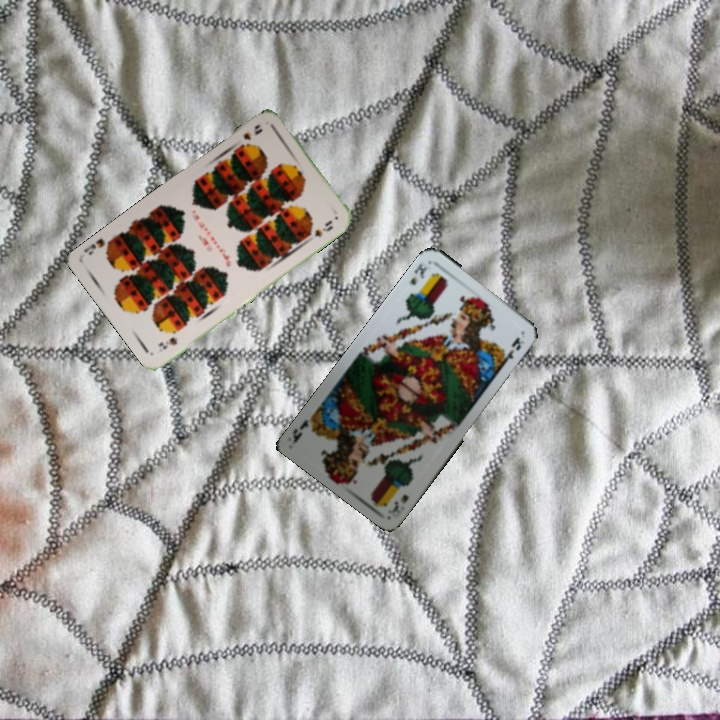EK: (387, 490, 411, 519), (406, 259, 429, 288)
S9: (234, 120, 265, 151), (155, 333, 180, 352)
